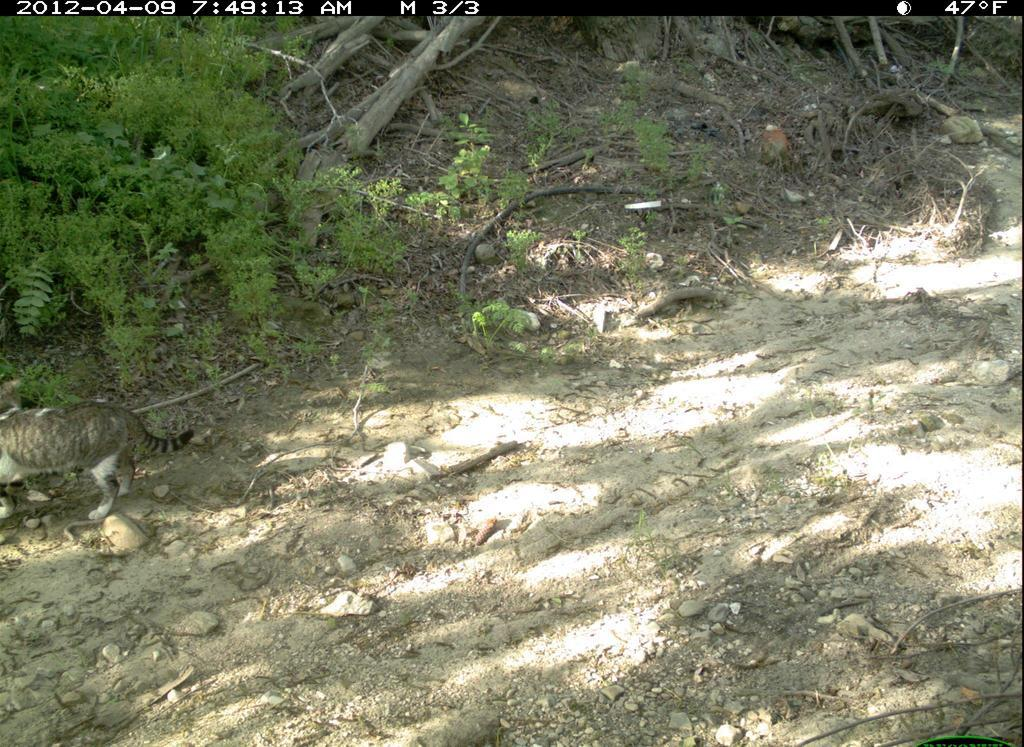cat: (6, 397, 201, 525)
